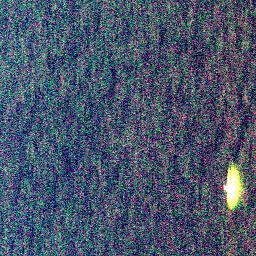Ship: (225, 163, 243, 210)
